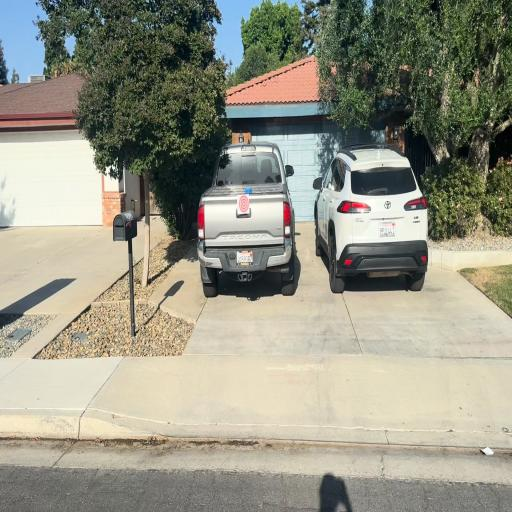bullseye: (238, 194, 249, 214)
